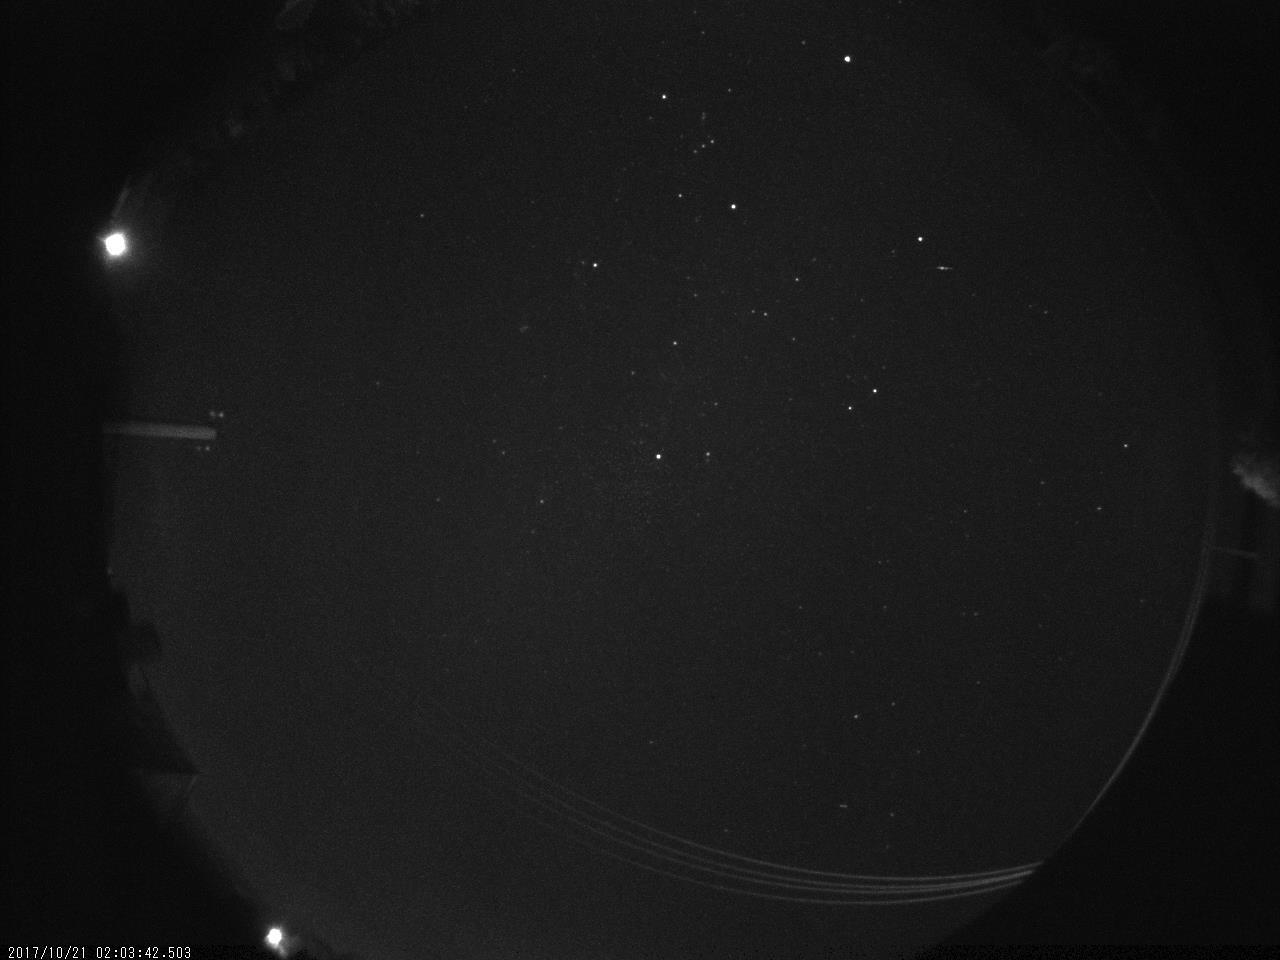Meteor: (927, 254, 965, 277)
